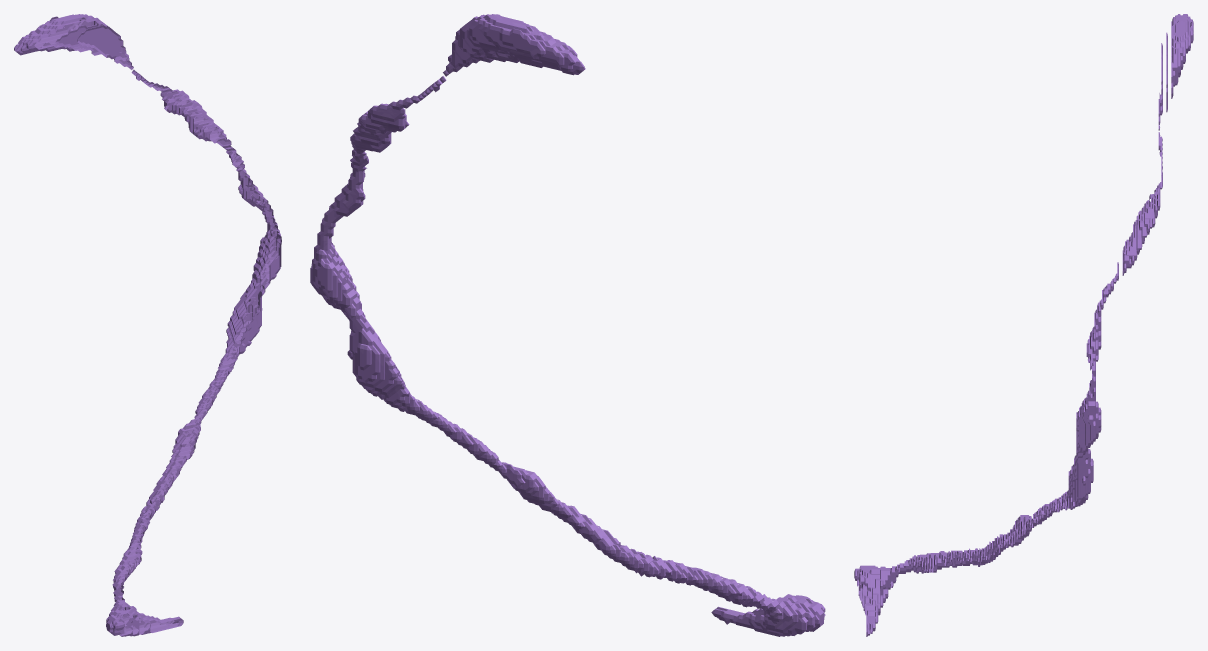
The model's file is SVV_AFDR.gltf.
3 renders of one model, left to right at view 1: azimuth 30°, elevation 25°; view 2: azimuth 150°, elevation 25°; view 3: azimuth 270°, elevation 25°, orthographic. The views are drawn at different scales.
Parts seen in each view (by area): view 1: AFDR; view 2: AFDR; view 3: AFDR.
Boxes of the visible parts, x1,y1,x2,y2 form: AFDR: (14,14,281,636); AFDR: (310,14,825,636); AFDR: (854,14,1193,636).
Size of the model in its own units: 55856 by 102453 by 50851.
